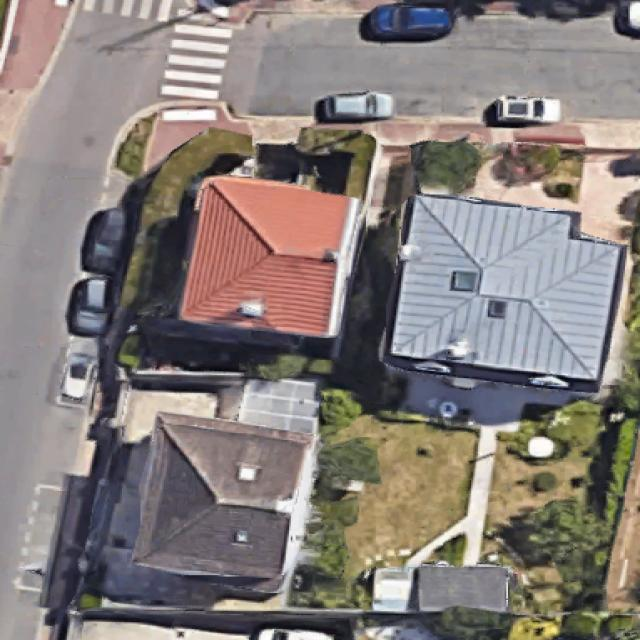maison: (381, 190, 629, 393), (127, 411, 311, 589), (176, 169, 356, 347)
